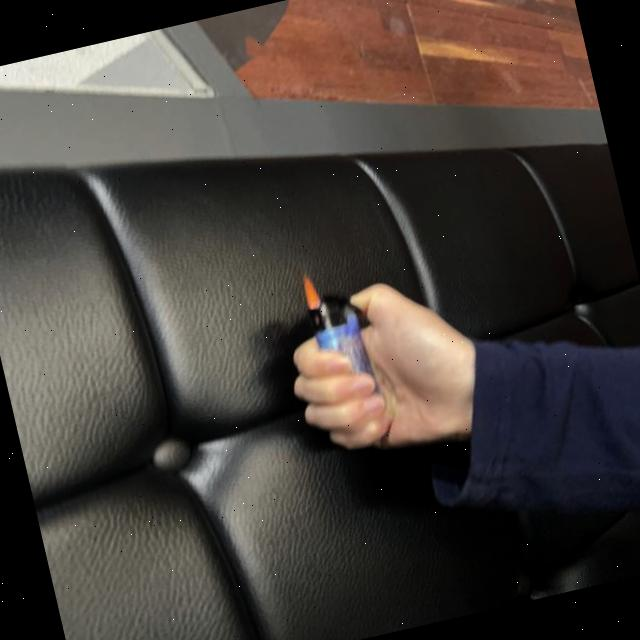fire: (298, 268, 324, 314)
